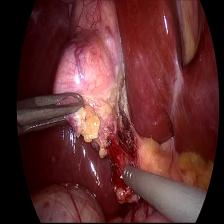Grasper: (22, 90, 86, 135)
Irrigator: (121, 162, 144, 196)
